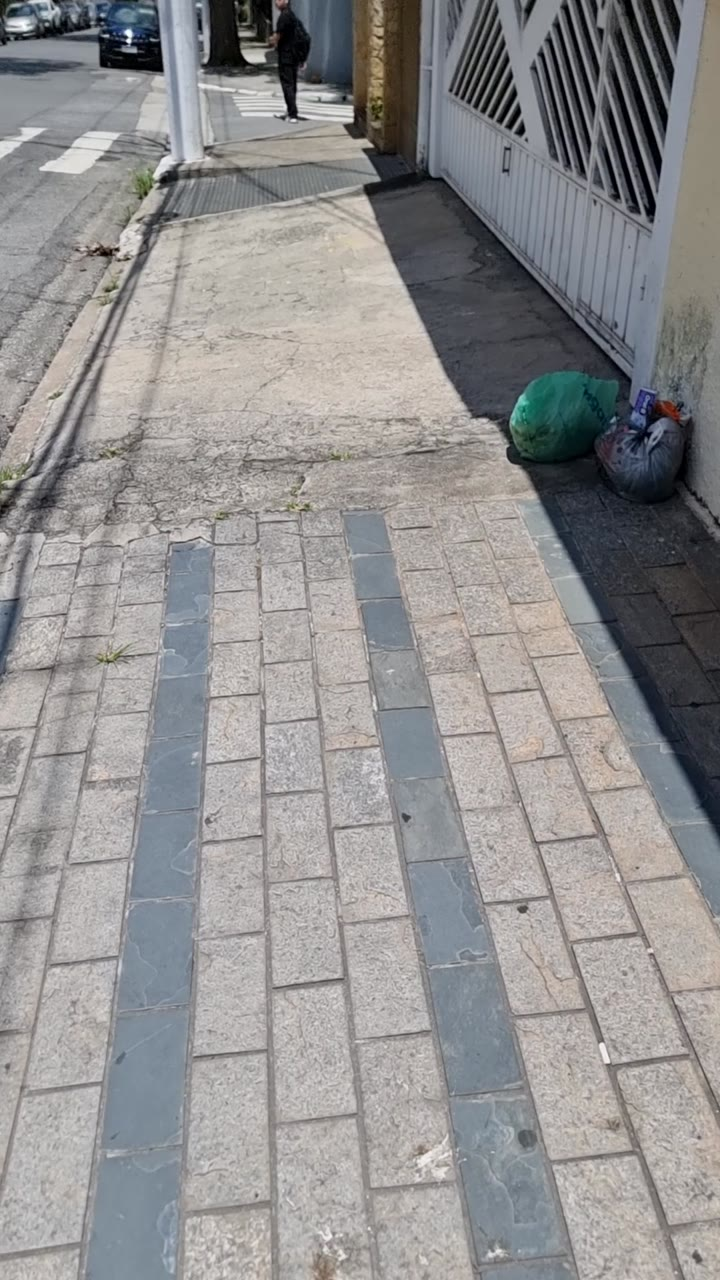obstaculo: (509, 371, 618, 463), (595, 416, 686, 503)
